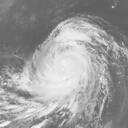cyclone: (38, 38, 101, 105)
